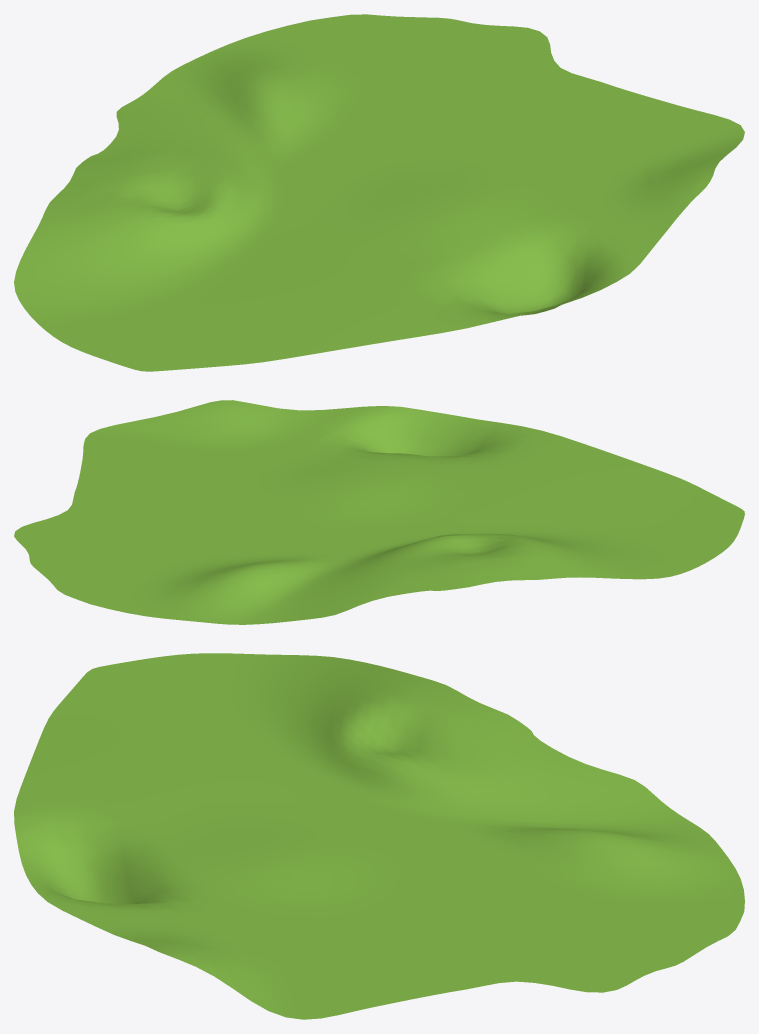
Rendered from terrain.fbx.
3 views of the same model, one above another, from view 1: azimuth 30°, elevation 25°; view 2: azimuth 150°, elevation 25°; view 3: azimuth 270°, elevation 25° (orthographic). The views are drawn at different scales.
Parts seen in each view (by area): view 1: Plane.005; view 2: Plane.005; view 3: Plane.005.
Part boxes in pixels (left/top/right/bottom): Plane.005: left=14, top=14, right=744, bottom=371; Plane.005: left=14, top=400, right=744, bottom=624; Plane.005: left=14, top=653, right=744, bottom=1019.
Size of the model in its own units: 23156 by 1940 by 19512.
